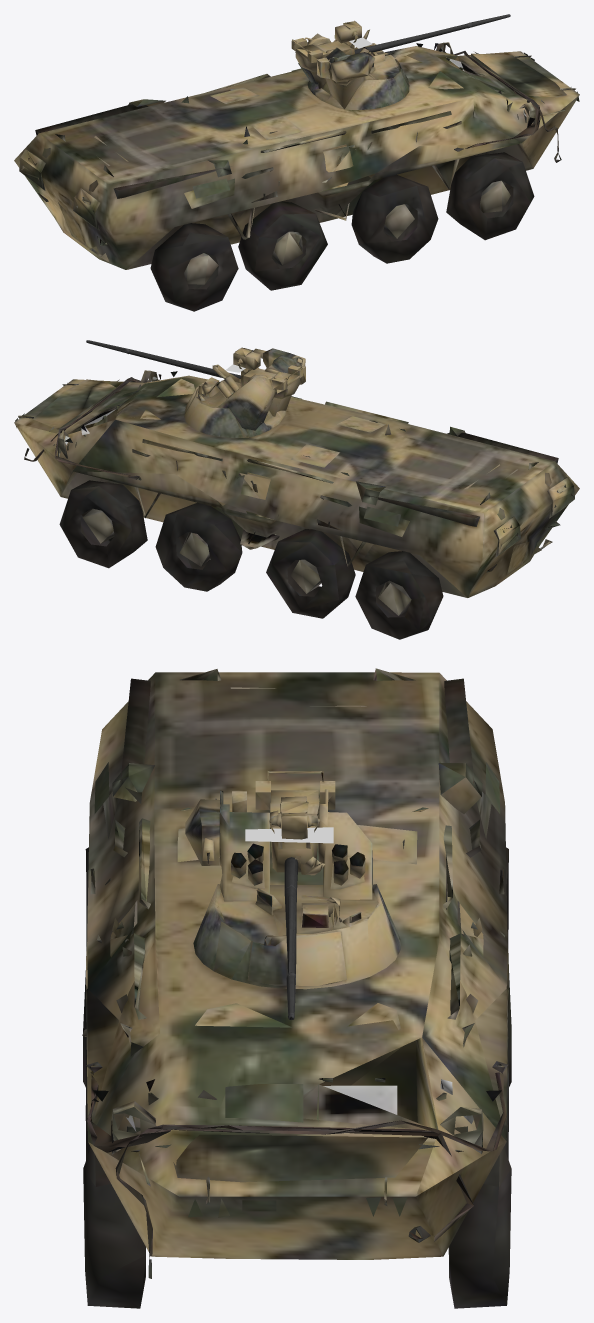
File: btr82_lo.glb
3 views of the same model, one above another, from view 1: azimuth 30°, elevation 25°; view 2: azimuth 150°, elevation 25°; view 3: azimuth 270°, elevation 25° (orthographic). The views are drawn at different scales.
Parts seen in each view (by area): view 1: g_btr82_hull, g_btr82_turret, g_btr82_gun; view 2: g_btr82_hull, g_btr82_turret, g_btr82_gun; view 3: g_btr82_hull, g_btr82_turret, g_btr82_gun.
Part boxes in pixels (x1,y1,x2,y2): g_btr82_hull: (14, 42, 579, 311); g_btr82_turret: (291, 20, 409, 110); g_btr82_gun: (354, 14, 510, 54); g_btr82_hull: (14, 370, 579, 639); g_btr82_turret: (184, 347, 305, 437); g_btr82_gun: (86, 340, 240, 378); g_btr82_hull: (82, 668, 511, 1308); g_btr82_turret: (185, 771, 400, 989); g_btr82_gun: (284, 857, 298, 1019).
Size of the model in its own units: 7.65 by 2.96 by 2.86.
Materials: 4 (3 with a texture image).
